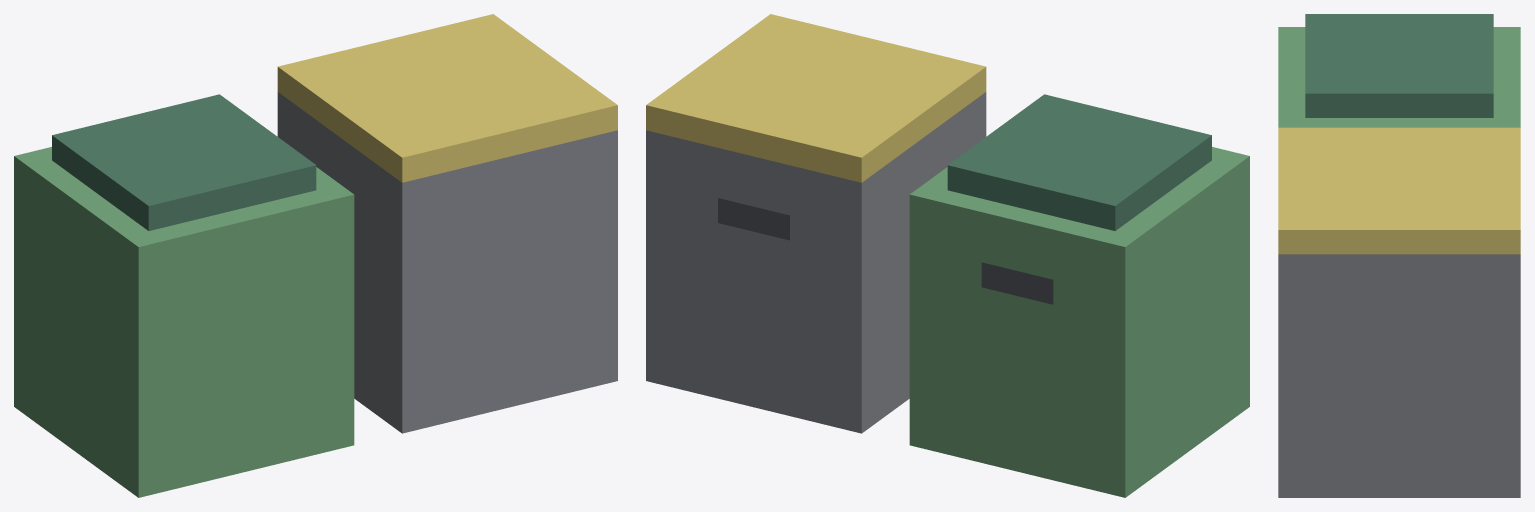
Rendered from conteneurs.glb.
3 renders of one model, left to right at view 1: azimuth 30°, elevation 25°; view 2: azimuth 150°, elevation 25°; view 3: azimuth 270°, elevation 25°, orthographic. The views are drawn at different scales.
Parts seen in each view (by area): view 1: main; view 2: main; view 3: main.
Boxes of the visible parts, x1,y1,x2,y2 form: main: [14, 14, 617, 497]; main: [646, 14, 1249, 497]; main: [1278, 14, 1520, 497].
Size of the model in its own units: 2.5 by 1.38 by 1.12.
